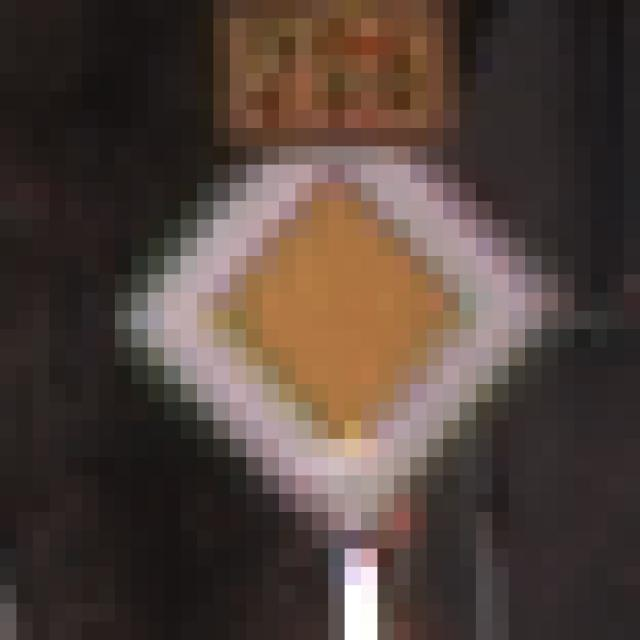Main Road: (83, 93, 559, 550)
